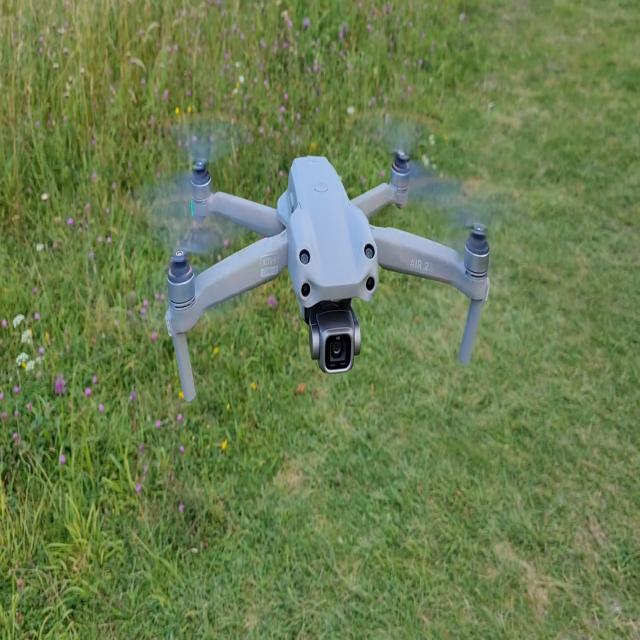drone: (164, 148, 490, 402)
